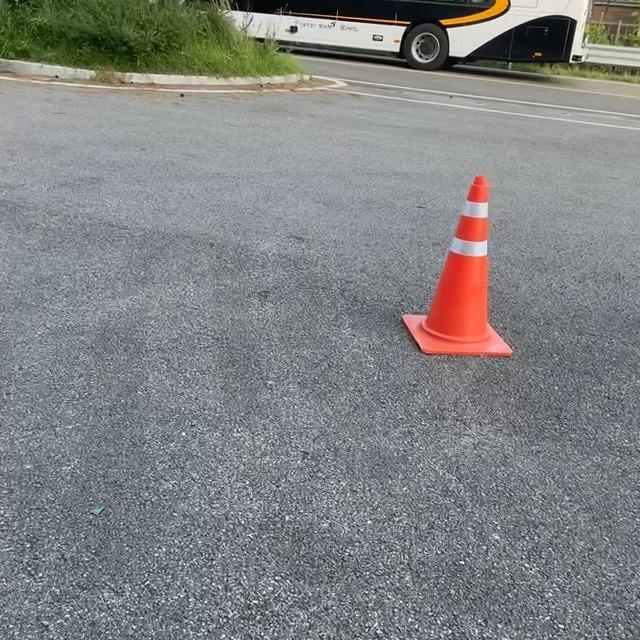fallen_object: (356, 156, 522, 379)
